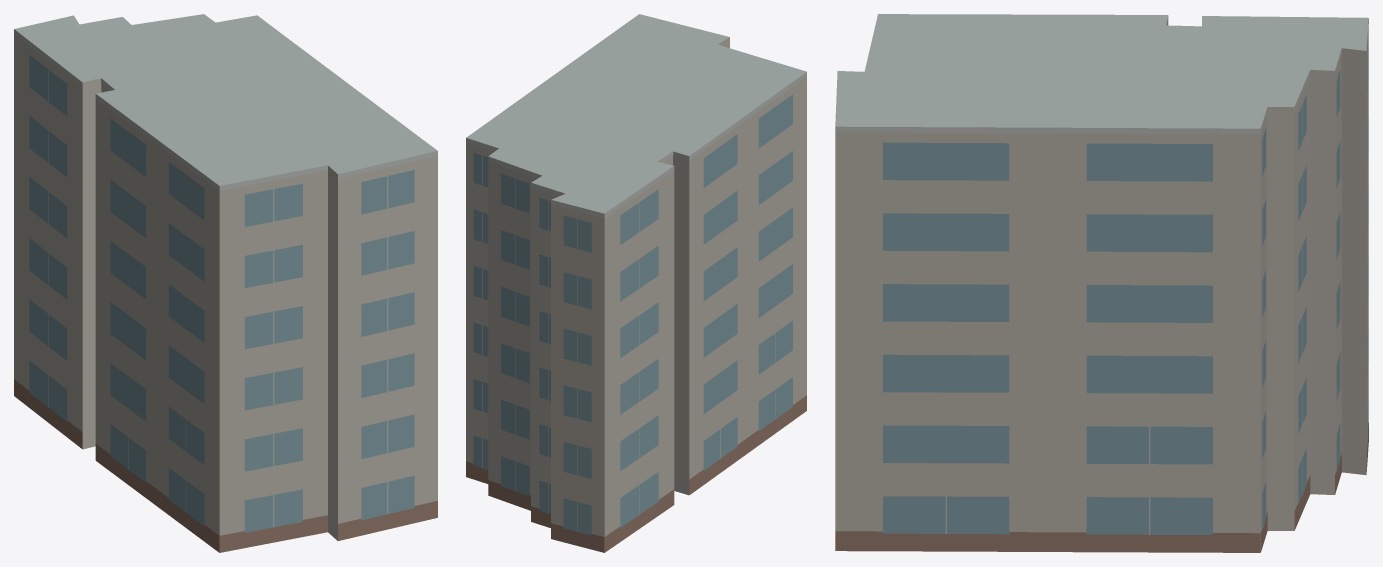
File: survey-upis-33000730.glb
3 views of the same model, side by side, from view 1: azimuth 30°, elevation 25°; view 2: azimuth 150°, elevation 25°; view 3: azimuth 270°, elevation 25° (orthographic). The views are drawn at different scales.
Parts seen in each view (by area): view 1: survey-upis-33000730.tmp; view 2: survey-upis-33000730.tmp; view 3: survey-upis-33000730.tmp.
Boxes of the visible parts, x1,y1,x2,y2 form: survey-upis-33000730.tmp: (14,14,437,552); survey-upis-33000730.tmp: (466,14,806,552); survey-upis-33000730.tmp: (835,14,1368,552).
Bounding box in the file's own units: 10.44 × 18 × 20.52.
